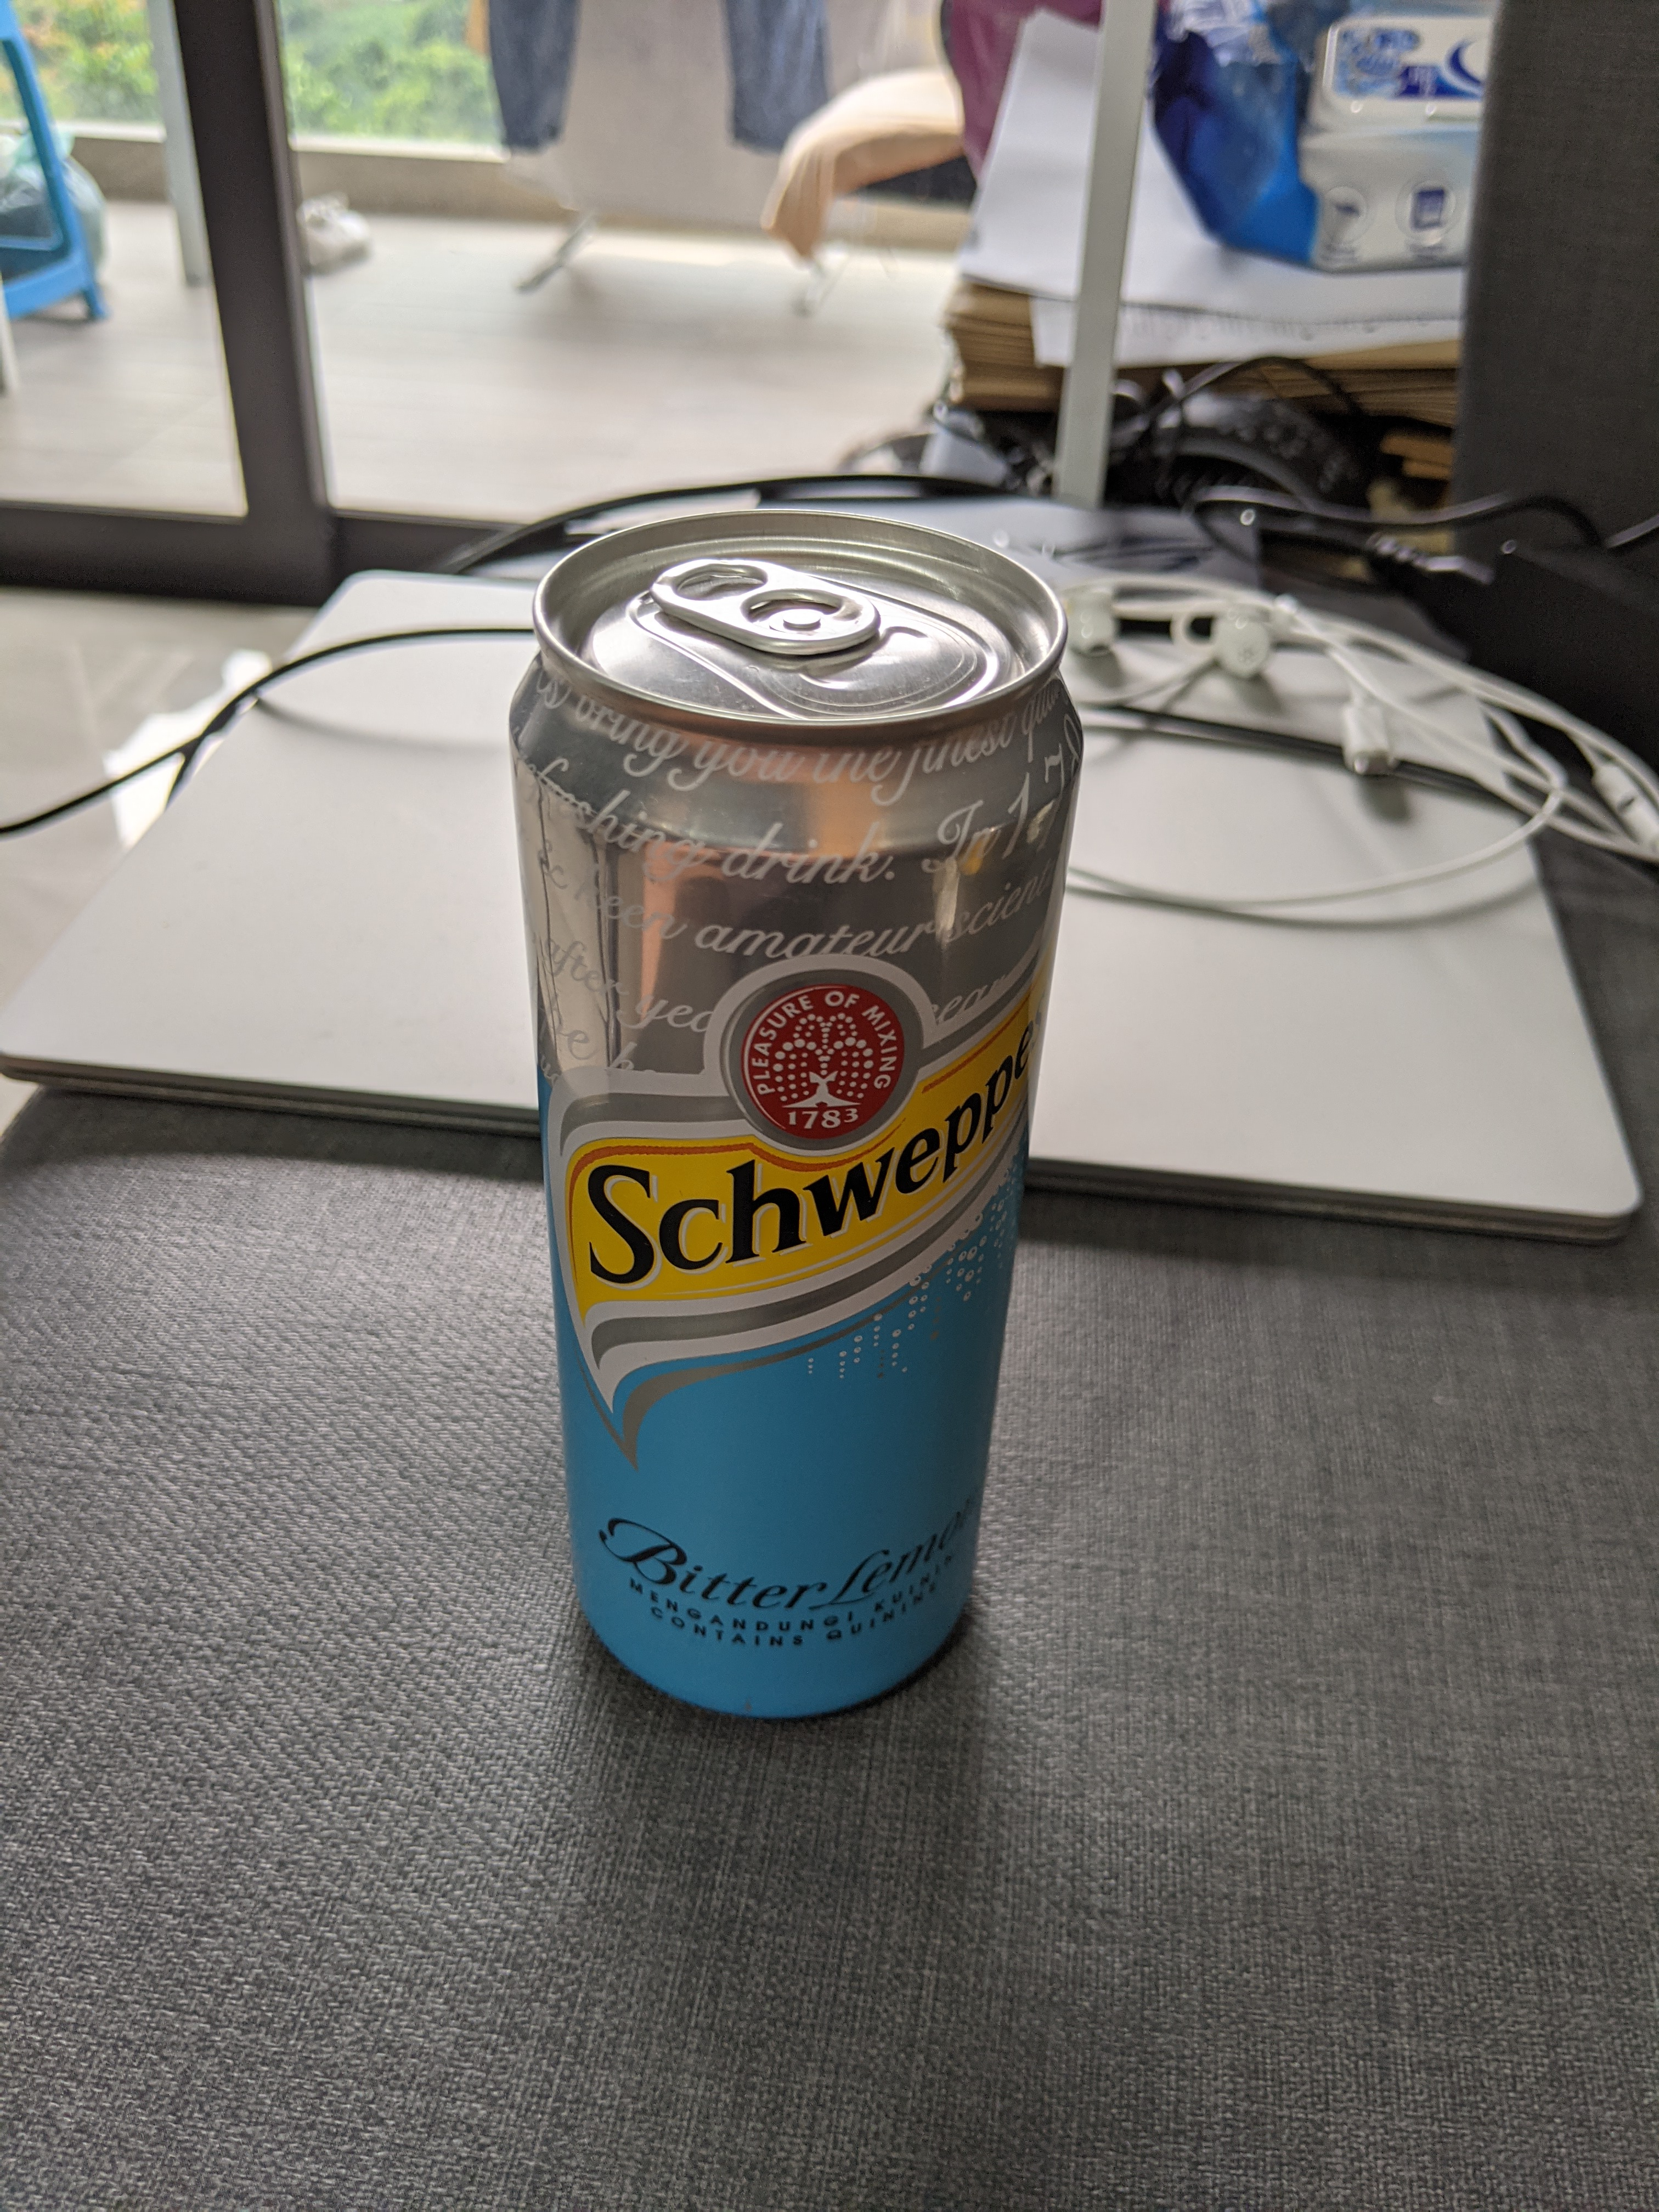schweppes drink can bitter lemon: (483, 489, 1112, 1763)
